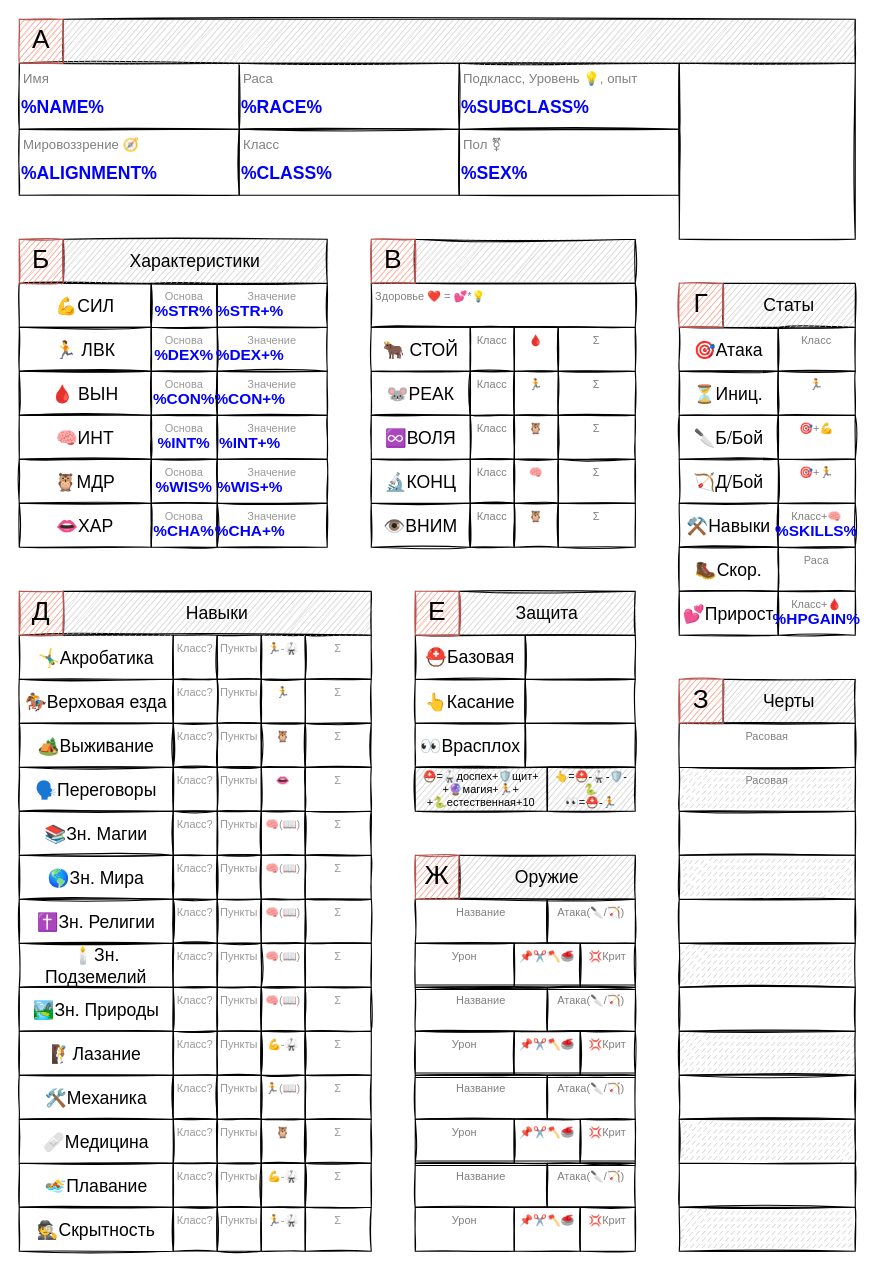
This 879x1271 diagram has some shape labels left out. Here are the shapes that lost their labels. From the top down, the centre of each, then its label:
At [458,40]: "Основная информация".
At [766,150]: "Портрет".
At [524,260]: "Спасброски".
